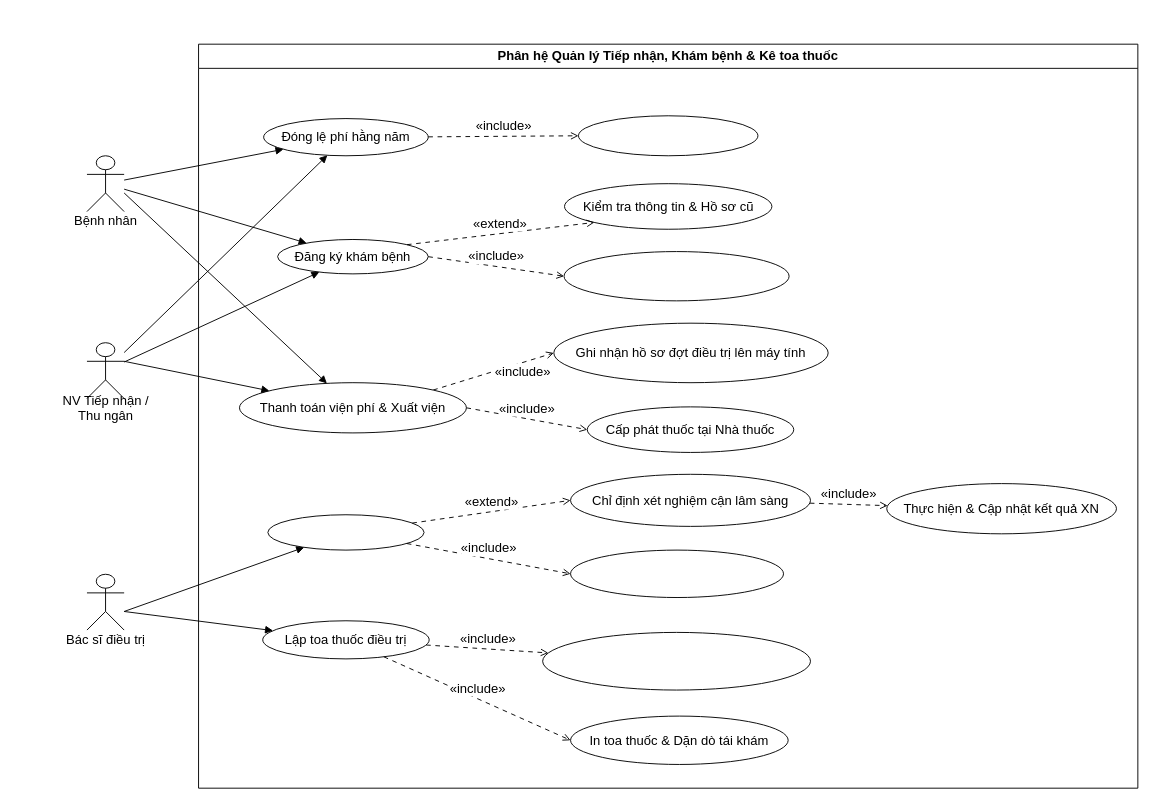
Some shapes in this 1154 by 804 pixel diagram are drawn without their labels. The centre of each missing label's shape, as x and y in pixels:
"Cấp hồ sơ bệnh án mới (Mã HS)" belongs at [676,276].
"Ghi nhận sinh hiệu triệu chứng" belongs at [677,573].
"Khám bệnh lâm sàng" belongs at [345,532].
"Kiểm tra tiền sử phản ứng phụ & Dị ứng" belongs at [676,660].
"Xuất biên lai lệ phí năm" belongs at [668,135].
